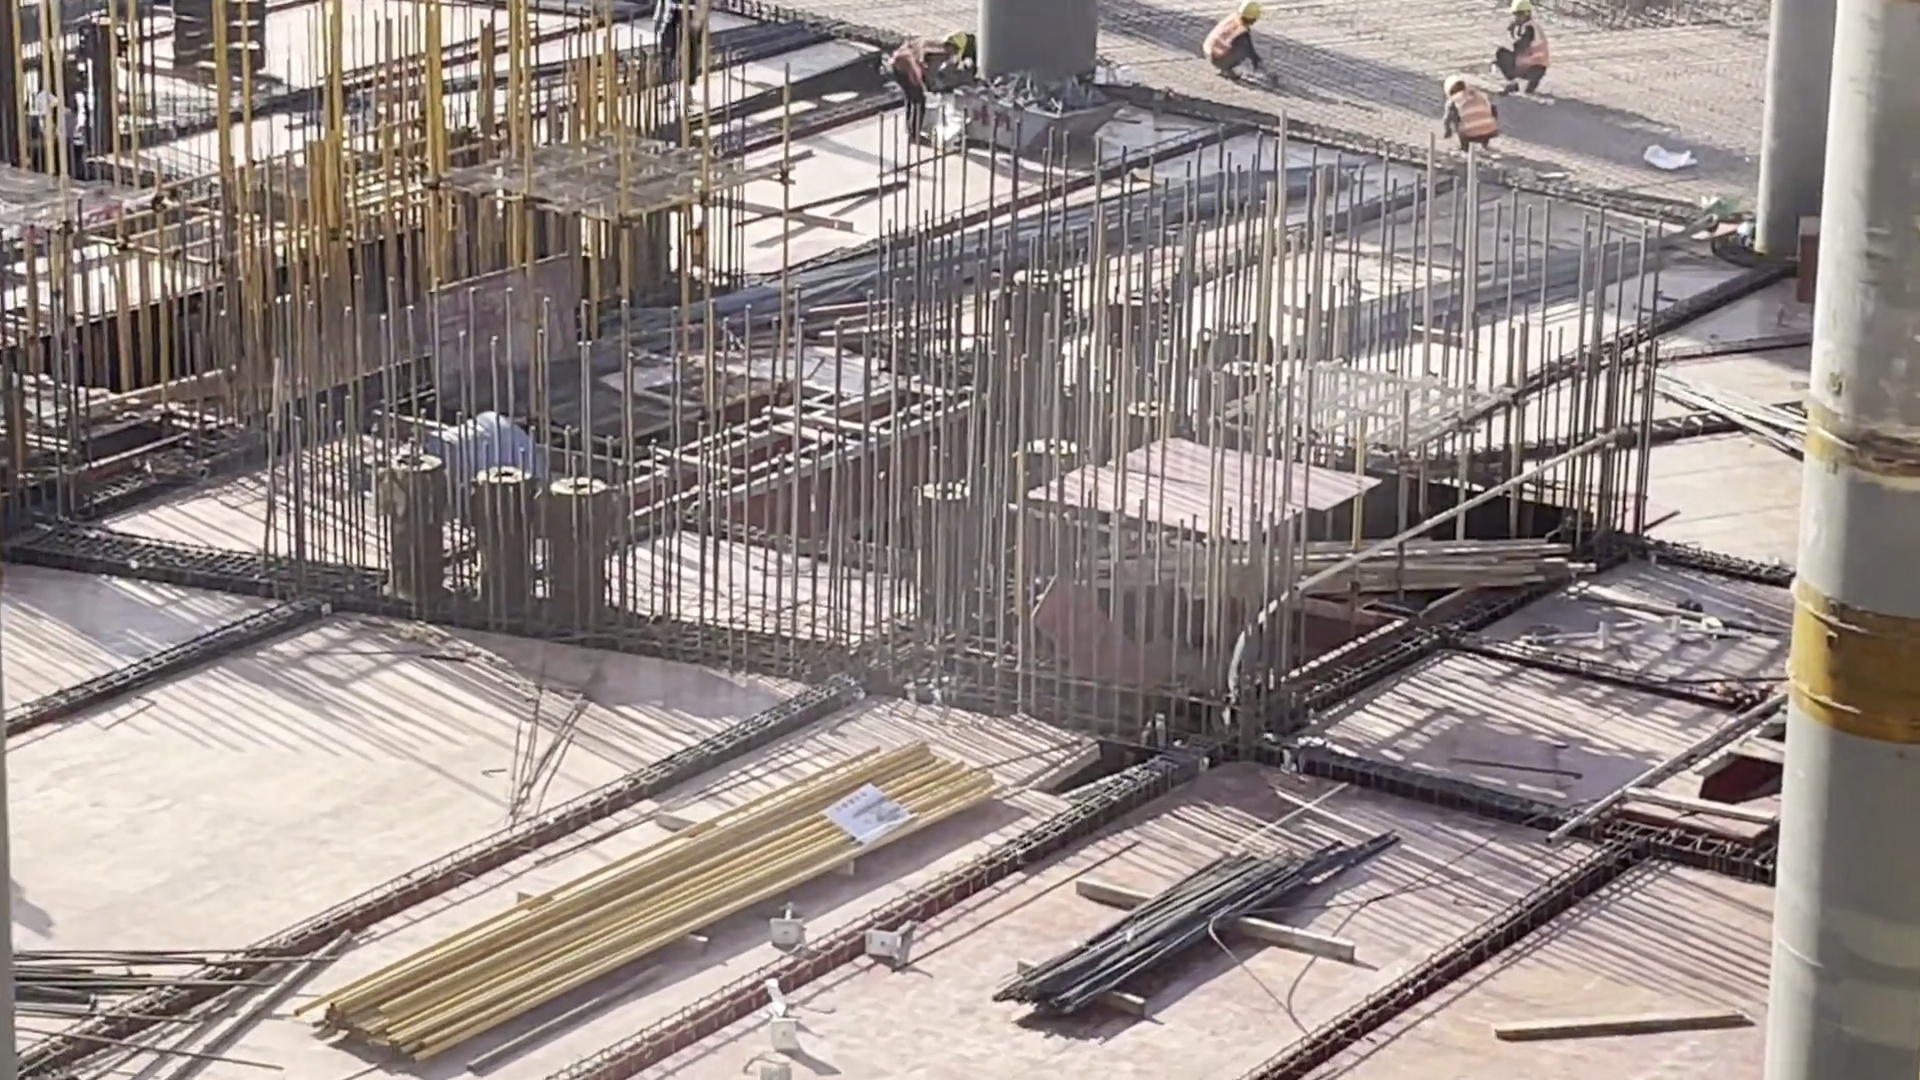helmet: (1441, 60, 1479, 96), (941, 26, 965, 59), (1507, 1, 1531, 23), (1235, 1, 1260, 18)
person: (871, 22, 973, 150), (1486, 1, 1549, 89), (1432, 76, 1503, 152), (1207, 1, 1266, 80)
vest: (1501, 27, 1546, 78), (1202, 13, 1239, 67), (1449, 102, 1504, 135)
